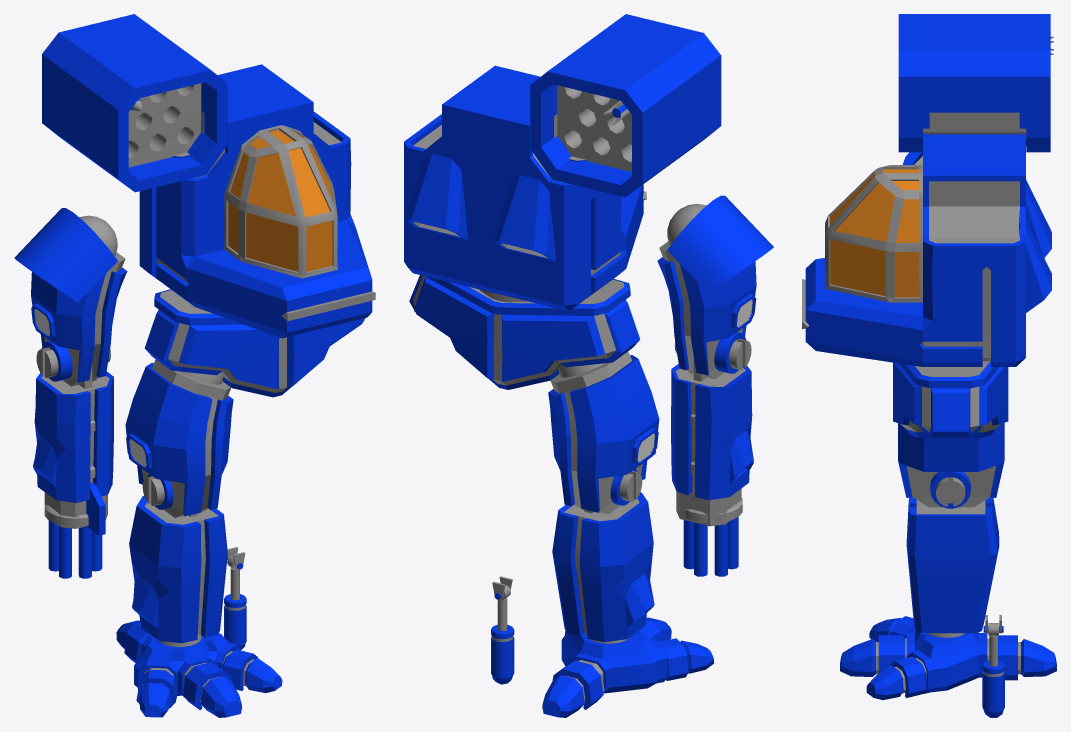
Rendered from Mech.FBX.
The picture shows the model from 3 angles, left to right: view 1: azimuth 30°, elevation 25°; view 2: azimuth 150°, elevation 25°; view 3: azimuth 270°, elevation 25°; orthographic projection. The views are drawn at different scales.
Parts seen in each view (by area): view 1: MainBody, ShoulderPack, Cockpit, LowerLeg, UpperArm, UpperLeg, PulseCannon, Pelvis, Foot, Minigun, LowerToe_ncl1_2, PneumaticCylinder (+6 smaller); view 2: MainBody, ShoulderPack, Pelvis, UpperArm, LowerLeg, UpperLeg, PulseCannon, Foot, Minigun, LowerToe, PneumaticCylinder, UpperToe (+2 smaller); view 3: MainBody, ShoulderPack, LowerLeg, Cockpit, Pelvis, UpperLeg, Foot, LowerToe_ncl1_2, LowerToe, PneumaticCylinder, LowerToe_ncl1_1, UpperToe_ncl1_1 (+3 smaller).
Part boxes in pixels (bbox=[...]): MainBody: bbox=[139, 64, 375, 338]; ShoulderPack: bbox=[42, 14, 227, 192]; Cockpit: bbox=[224, 125, 337, 278]; LowerLeg: bbox=[129, 474, 227, 643]; UpperArm: bbox=[14, 208, 127, 386]; UpperLeg: bbox=[125, 359, 233, 517]; PulseCannon: bbox=[33, 341, 113, 535]; Pelvis: bbox=[144, 289, 365, 397]; Foot: bbox=[134, 633, 240, 695]; Minigun: bbox=[44, 420, 102, 578]; LowerToe_ncl1_2: bbox=[200, 676, 242, 717]; PneumaticCylinder: bbox=[224, 594, 246, 649]; MainBody: bbox=[404, 65, 646, 311]; ShoulderPack: bbox=[530, 14, 721, 197]; Pelvis: bbox=[409, 275, 640, 389]; UpperArm: bbox=[657, 195, 773, 379]; LowerLeg: bbox=[552, 468, 654, 642]; UpperLeg: bbox=[548, 351, 659, 514]; PulseCannon: bbox=[671, 332, 753, 526]; Foot: bbox=[561, 630, 667, 693]; Minigun: bbox=[683, 414, 742, 576]; LowerToe: bbox=[542, 675, 585, 717]; PneumaticCylinder: bbox=[491, 624, 514, 684]; UpperToe: bbox=[552, 660, 604, 709]; MainBody: bbox=[802, 134, 1051, 366]; ShoulderPack: bbox=[898, 14, 1050, 152]; LowerLeg: bbox=[906, 472, 999, 633]; Cockpit: bbox=[825, 164, 922, 302]; Pelvis: bbox=[893, 361, 1008, 437]; UpperLeg: bbox=[898, 423, 1004, 507]; Foot: bbox=[906, 624, 987, 693]; LowerToe_ncl1_2: bbox=[840, 639, 878, 676]; LowerToe: bbox=[1018, 639, 1056, 676]; PneumaticCylinder: bbox=[982, 660, 1004, 717]; LowerToe_ncl1_1: bbox=[866, 665, 905, 699]; UpperToe_ncl1_1: bbox=[890, 656, 926, 697].
Bounding box in the file's own units: 4.73 × 8.51 × 3.11.
